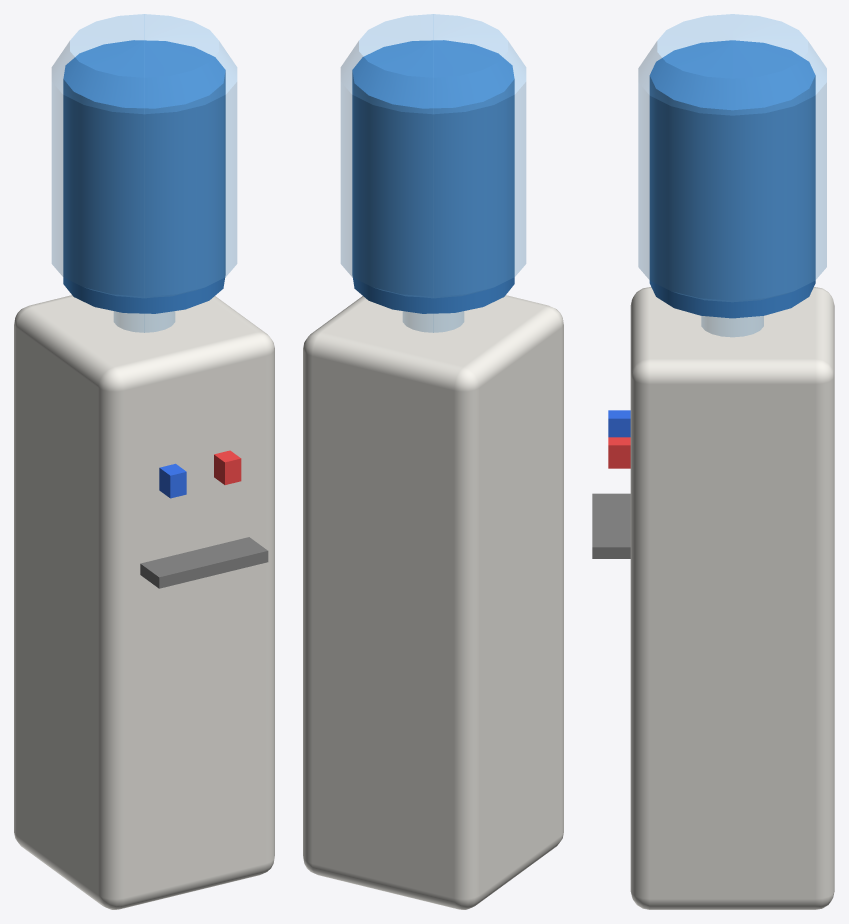
Rendered from water_cooler.glb.
3 views of the same model, side by side, from view 1: azimuth 30°, elevation 25°; view 2: azimuth 150°, elevation 25°; view 3: azimuth 270°, elevation 25° (orthographic).
Visible parts, largest first — view 1: main; view 2: main; view 3: main.
Boxes of the visible parts, x1,y1,x2,y2 form: main: (14,14,274,909); main: (303,14,563,909); main: (592,14,834,909).
Bounding box in the file's own units: 0.32 × 1.44 × 0.38.
